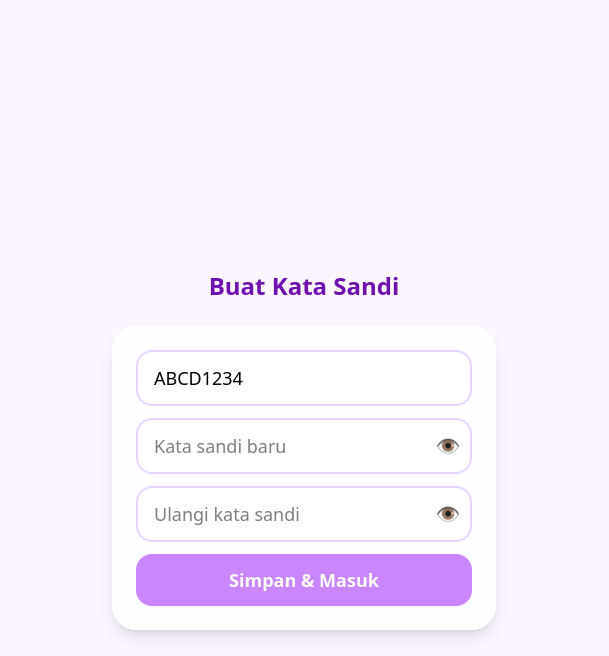
Scenario: family login (lobby-first) › setup via code logs the child straight into ChildApp
In the password field with placeholder "Kata sandi baru": (304, 446) [136, 418, 472, 474], type "rahasia1"
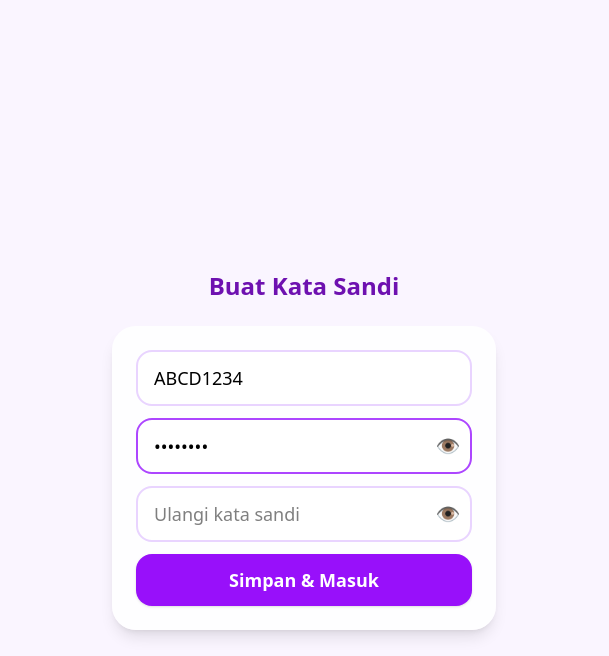
In the password field with placeholder "Ulangi kata sandi": (304, 514) [136, 486, 472, 542], type "rahasia1"
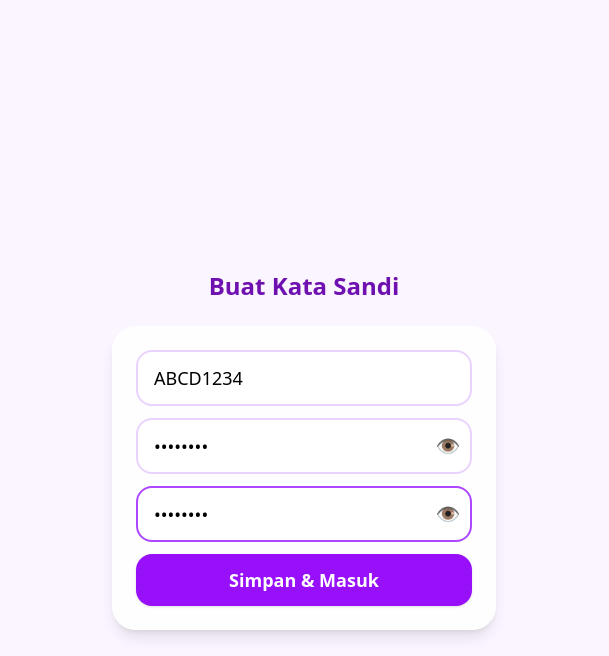
Click the button "Simpan & Masuk": (304, 580) [136, 554, 472, 606]
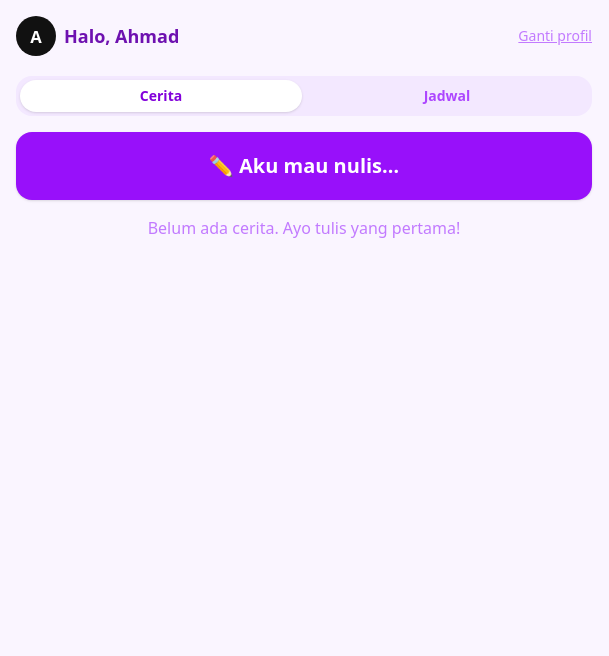
Expected: the heading "Buat Kata Sandi" is gone
